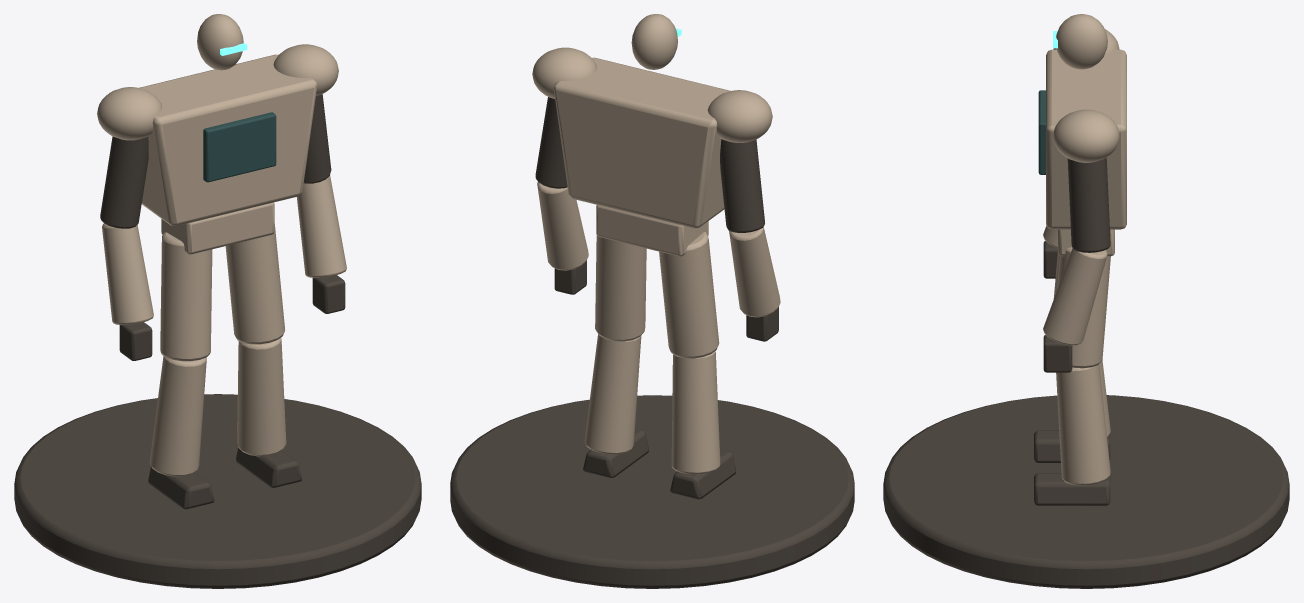
File: reliquary_frame_bulwark.glb
3 renders of one model, left to right at view 1: azimuth 30°, elevation 25°; view 2: azimuth 150°, elevation 25°; view 3: azimuth 270°, elevation 25°, orthographic.
Parts seen in each view (by area): view 1: standin_base.010, standin_torso.010, standin_thigh_R.010, standin_shin_R.010, standin_thigh_L.010, standin_shin_L.010, tp.010, standin_forearm_R.010, standin_forearm_L.010, standin_arm_R.010, standin_pelvis.010, standin_pauldron_R.010 (+7 smaller); view 2: standin_base.010, standin_torso.010, standin_thigh_R.010, standin_shin_R.010, standin_shin_L.010, standin_thigh_L.010, standin_arm_R.010, standin_forearm_R.010, standin_pelvis.010, standin_forearm_L.010, standin_pauldron_R.010, standin_helm.010 (+6 smaller); view 3: standin_base.010, standin_torso.010, standin_shin_L.010, standin_forearm_L.010, standin_arm_L.010, standin_pauldron_L.010, standin_helm.010, standin_thigh_L.010, standin_foot_L.010, standin_hand_L.010, standin_foot_R.010, tp.010.
Part boxes in pixels (x1,y1,x2,y2): standin_base.010: [14, 394, 421, 588]; standin_torso.010: [139, 54, 317, 225]; standin_thigh_R.010: [160, 232, 212, 361]; standin_shin_R.010: [149, 356, 206, 476]; standin_thigh_L.010: [225, 224, 284, 344]; standin_shin_L.010: [237, 337, 286, 456]; tp.010: [203, 112, 276, 182]; standin_forearm_R.010: [102, 223, 153, 324]; standin_forearm_L.010: [297, 175, 346, 277]; standin_arm_R.010: [100, 136, 148, 228]; standin_pelvis.010: [161, 202, 274, 254]; standin_pauldron_R.010: [97, 87, 162, 140]; standin_base.010: [450, 395, 854, 588]; standin_torso.010: [553, 57, 730, 228]; standin_thigh_R.010: [659, 232, 719, 358]; standin_shin_R.010: [671, 351, 720, 474]; standin_shin_L.010: [584, 334, 641, 454]; standin_thigh_L.010: [595, 235, 646, 341]; standin_arm_R.010: [720, 139, 764, 232]; standin_forearm_R.010: [729, 227, 780, 317]; standin_pelvis.010: [596, 205, 708, 256]; standin_forearm_L.010: [537, 182, 588, 270]; standin_pauldron_R.010: [707, 90, 772, 142]; standin_helm.010: [631, 14, 677, 69]; standin_base.010: [883, 395, 1289, 588]; standin_torso.010: [1046, 49, 1126, 229]; standin_shin_L.010: [1056, 364, 1110, 485]; standin_forearm_L.010: [1043, 248, 1107, 345]; standin_arm_L.010: [1067, 157, 1110, 252]; standin_pauldron_L.010: [1053, 109, 1119, 162]; standin_helm.010: [1056, 14, 1107, 69]; standin_thigh_L.010: [1057, 247, 1110, 368]; standin_foot_L.010: [1034, 473, 1110, 505]; standin_hand_L.010: [1043, 335, 1072, 372]; standin_foot_R.010: [1034, 430, 1110, 462]; tp.010: [1038, 90, 1045, 174].
Bounding box in the file's own units: 40 × 53.26 × 40.
